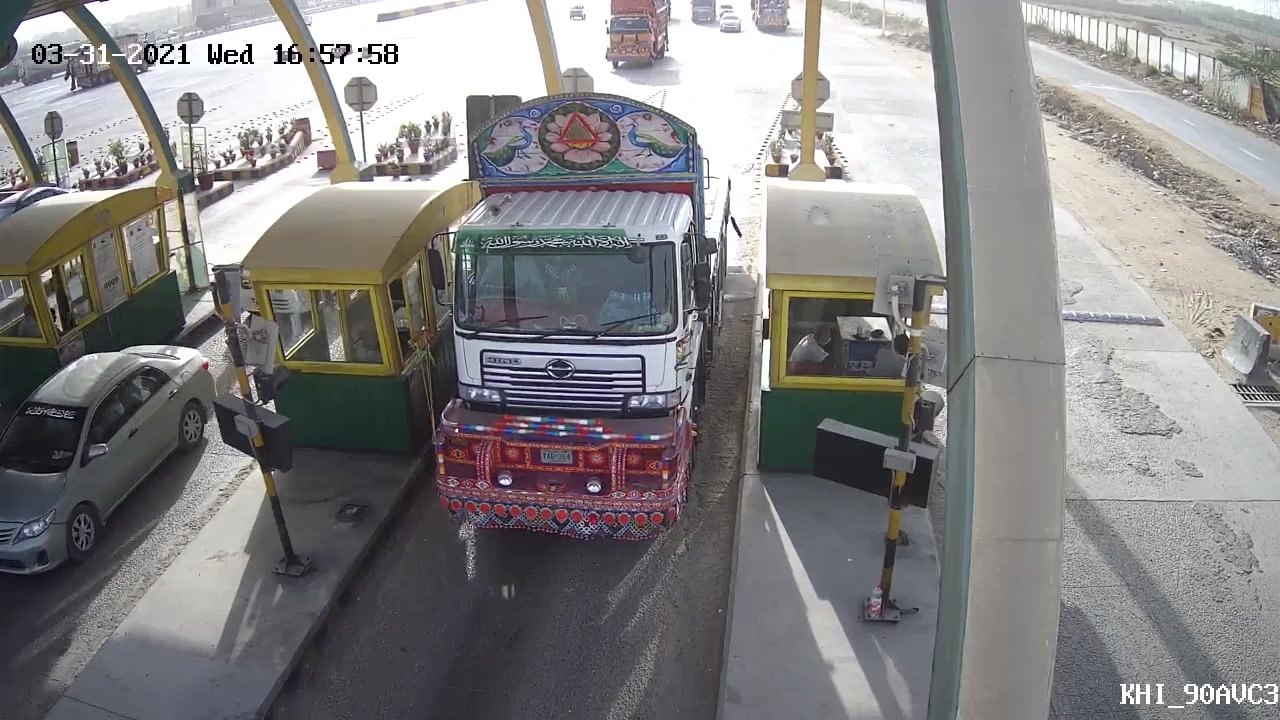F5: (420, 104, 722, 542)
